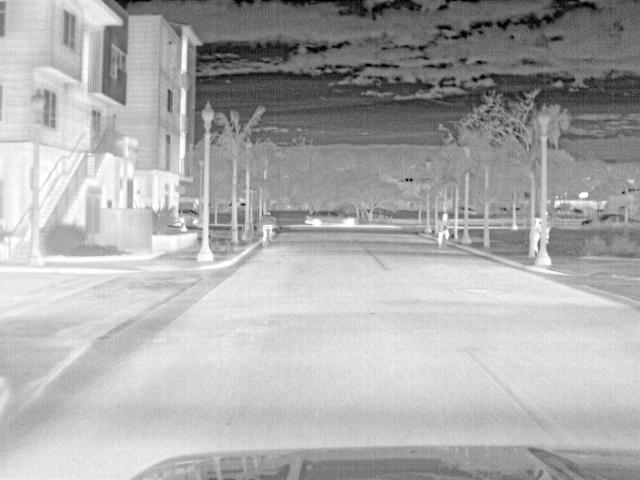car: (303, 208, 358, 228), (178, 207, 204, 226), (598, 211, 626, 228)
person: (437, 212, 453, 246), (532, 215, 544, 255), (263, 210, 276, 246)
